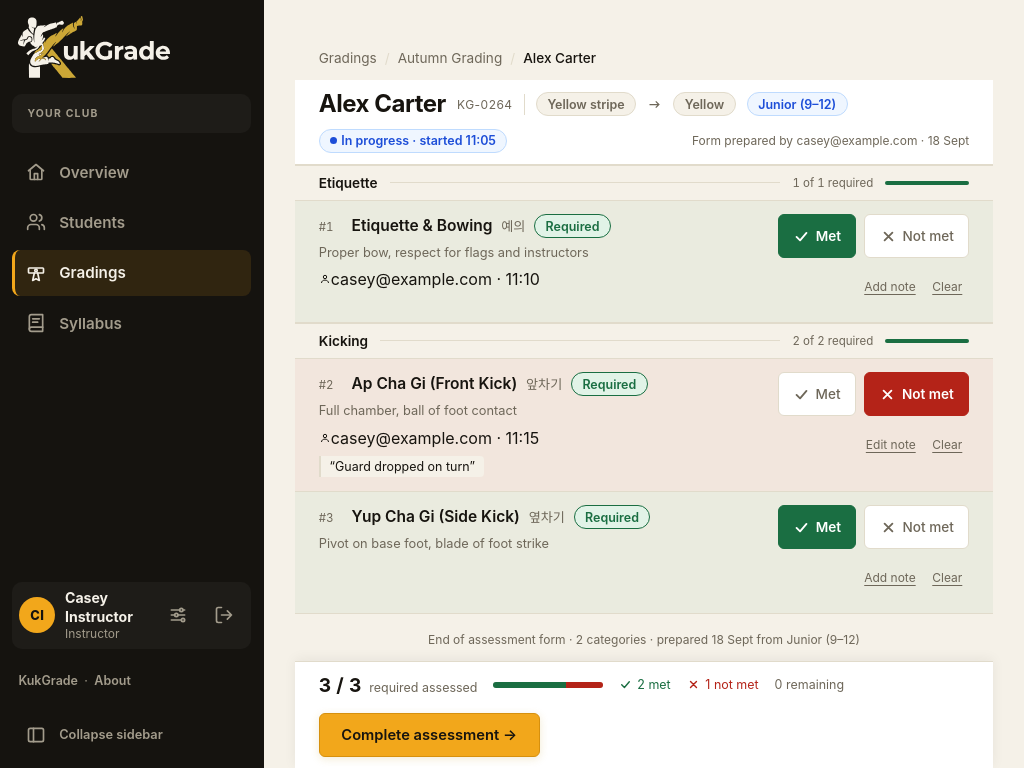
Test case: Candidate Assessment Workspace Screen (/gradings/:sessionId/assessments/:candidateId) › locks completion while a score change is still in flight
The width and height of the screenshot is (1024, 768).
Expected: the heading "Alex Carter" is shown, [319,91,446,118]
Expected: the button with test id "caw-complete-assessment-btn" is enabled, [319,713,540,757]
Step 1. Click the button with test id "btn-clear-1001" → x=947, y=287, box [925,265,969,309]
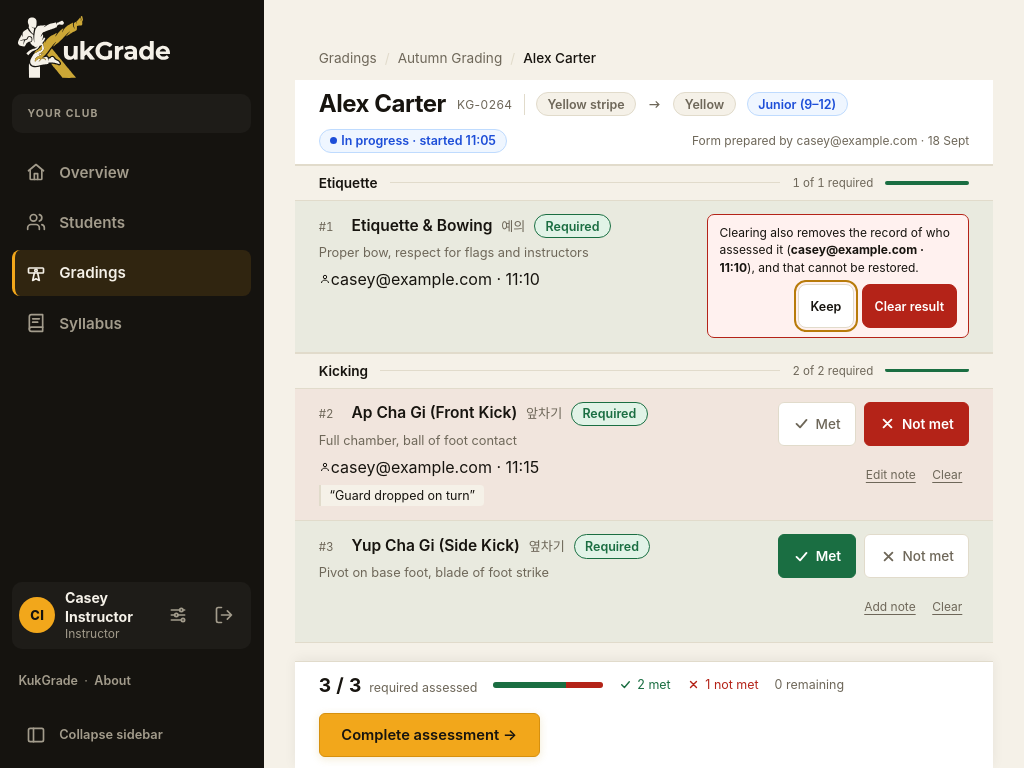
Step 2. Click the button with test id "btn-clear-confirm-1001" → x=909, y=306, box [862,284,957,328]
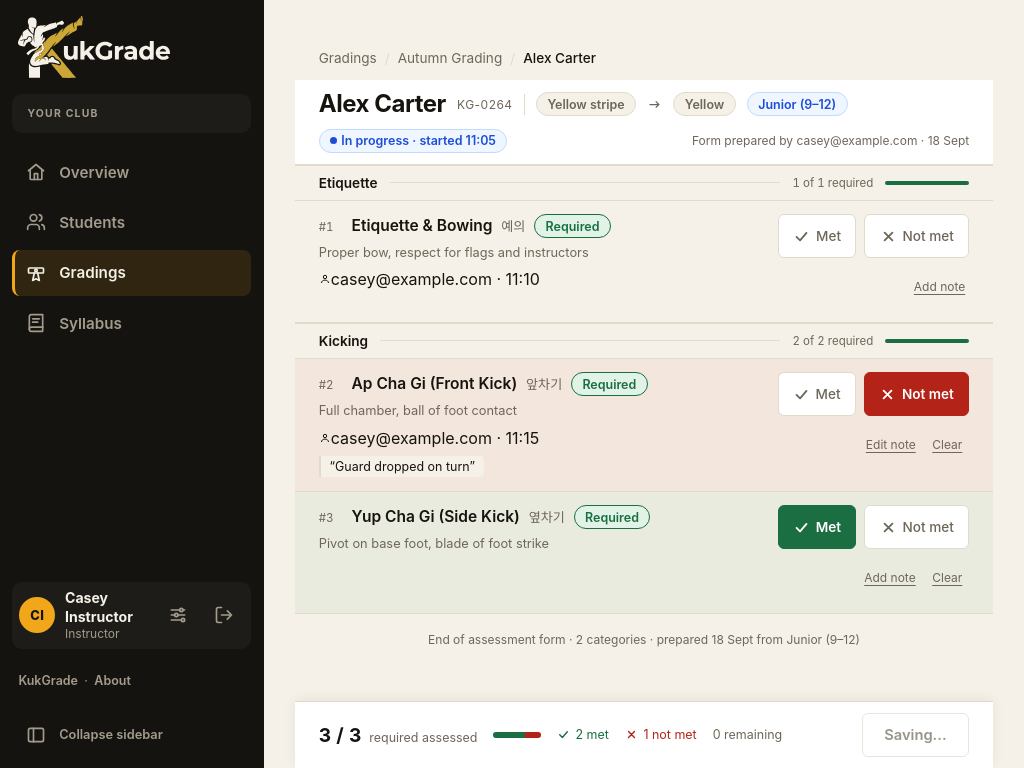
Result: the button with test id "caw-complete-assessment-btn" is disabled at [862,713,969,757]
Result: the button with test id "caw-complete-assessment-btn" reads "Saving..." at [862,713,969,757]
